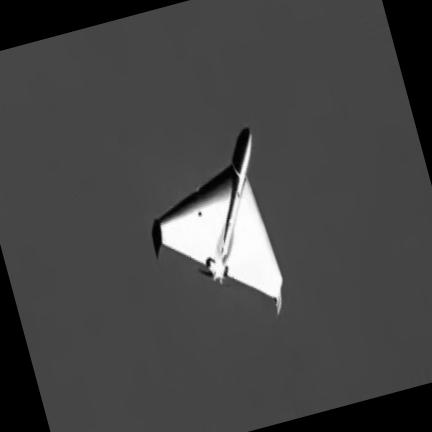Shahed: (152, 128, 282, 314)
